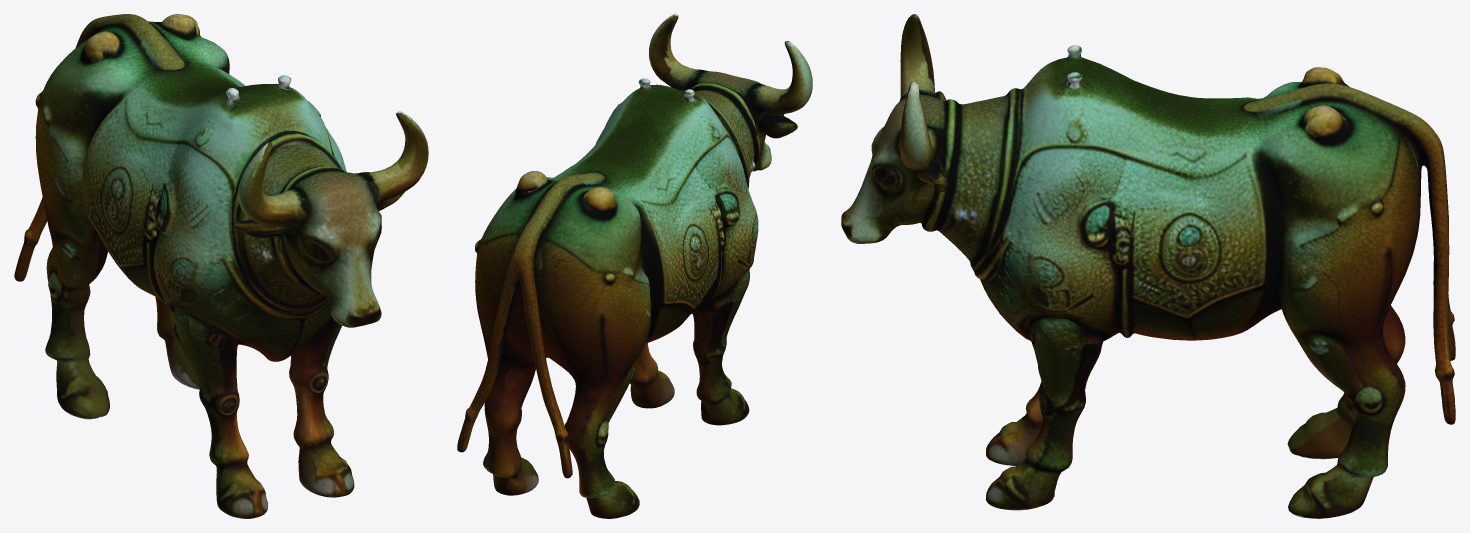
Rendered from mount-farm-ox-premium-mesh.glb.
The picture shows the model from 3 angles, left to right: view 1: azimuth 30°, elevation 25°; view 2: azimuth 150°, elevation 25°; view 3: azimuth 270°, elevation 25°; orthographic projection. The views are drawn at different scales.
Parts seen in each view (by area): view 1: tmpt_4hpget.ply; view 2: tmpt_4hpget.ply; view 3: tmpt_4hpget.ply.
Boxes of the visible parts, x1,y1,x2,y2 form: tmpt_4hpget.ply: (14, 14, 428, 518); tmpt_4hpget.ply: (457, 14, 812, 518); tmpt_4hpget.ply: (841, 14, 1455, 518).
Bounding box in the file's own units: 0.3728 × 0.7657 × 0.9875.
Materials: 1 (1 with a texture image).
